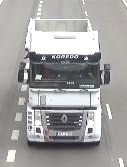truck: (26, 18, 102, 143)
